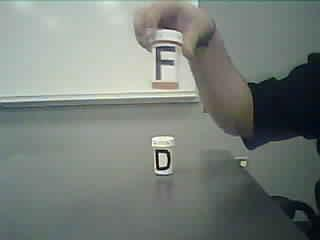Bottle D: (149, 135, 180, 179)
Bottle F: (148, 26, 185, 96)
